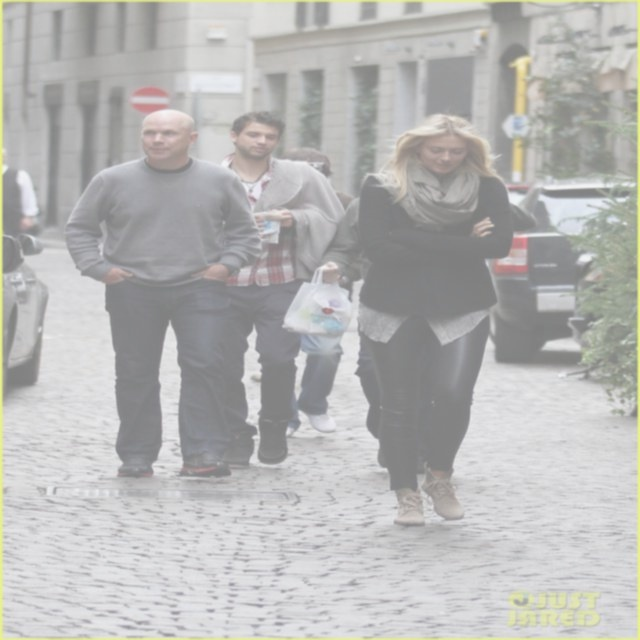pessoa: (58, 106, 267, 483), (354, 110, 524, 535), (216, 111, 347, 470), (278, 144, 358, 440), (316, 195, 392, 470), (0, 143, 44, 284)
